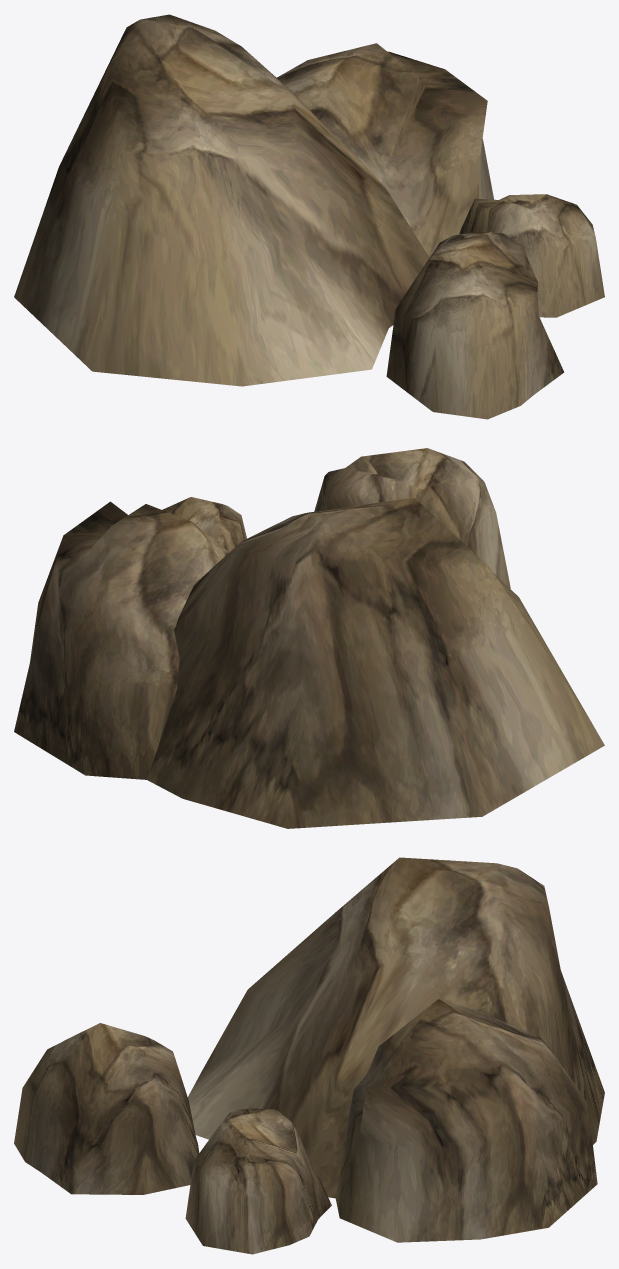
The model's file is obj_macoprro11.glb.
3 renders of one model, top to bottom at view 1: azimuth 30°, elevation 25°; view 2: azimuth 150°, elevation 25°; view 3: azimuth 270°, elevation 25°, orthographic. The views are drawn at different scales.
Visible parts, largest first — view 1: part_0; view 2: part_0; view 3: part_0.
Part boxes in pixels (x1=…): part_0: x1=14, y1=14, x2=604, y2=419; part_0: x1=14, y1=448, x2=604, y2=828; part_0: x1=14, y1=857, x2=604, y2=1254.
Bounding box in the file's own units: 5.69 × 2.74 × 6.19.
Materials: 1 (1 with a texture image).
